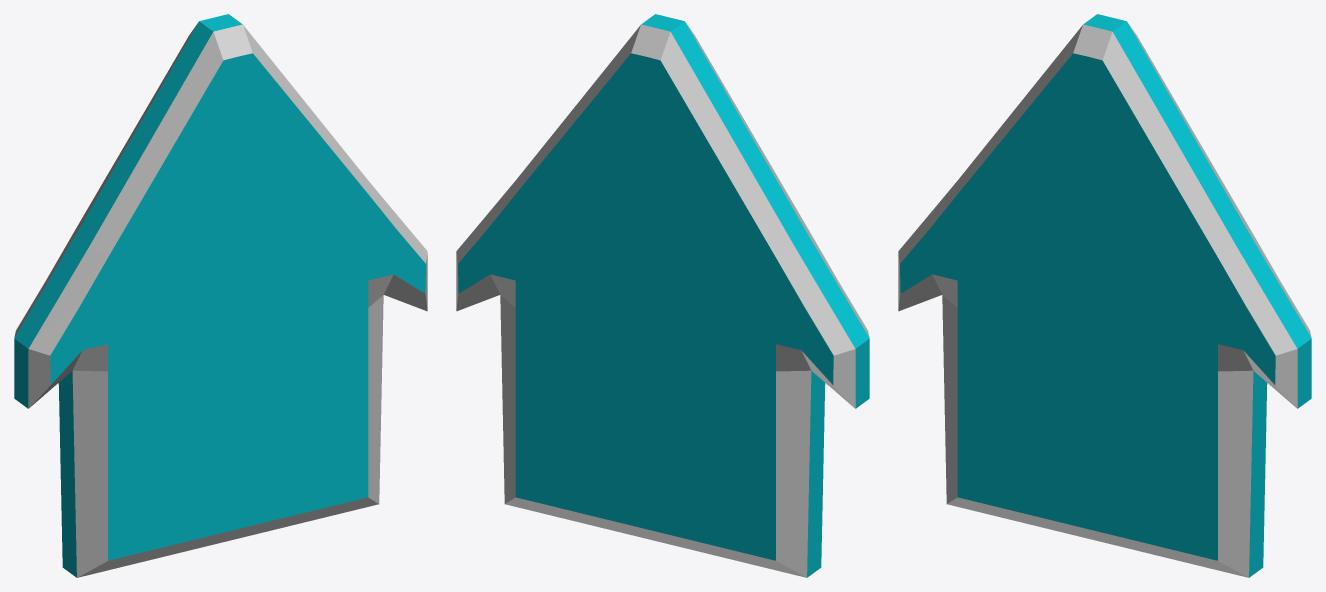
File: NavArrow6.fbx
The picture shows the model from 3 angles, left to right: view 1: azimuth 30°, elevation 25°; view 2: azimuth 150°, elevation 25°; view 3: azimuth 330°, elevation 25°; orthographic projection.
Parts seen in each view (by area): view 1: NavArrowForward; view 2: NavArrowForward; view 3: NavArrowForward.
Boxes of the visible parts, x1,y1,x2,y2 form: NavArrowForward: [14, 14, 427, 577]; NavArrowForward: [456, 14, 869, 577]; NavArrowForward: [898, 14, 1311, 577].
Bounding box in the file's own units: 79.69 × 97.85 × 11.86.
